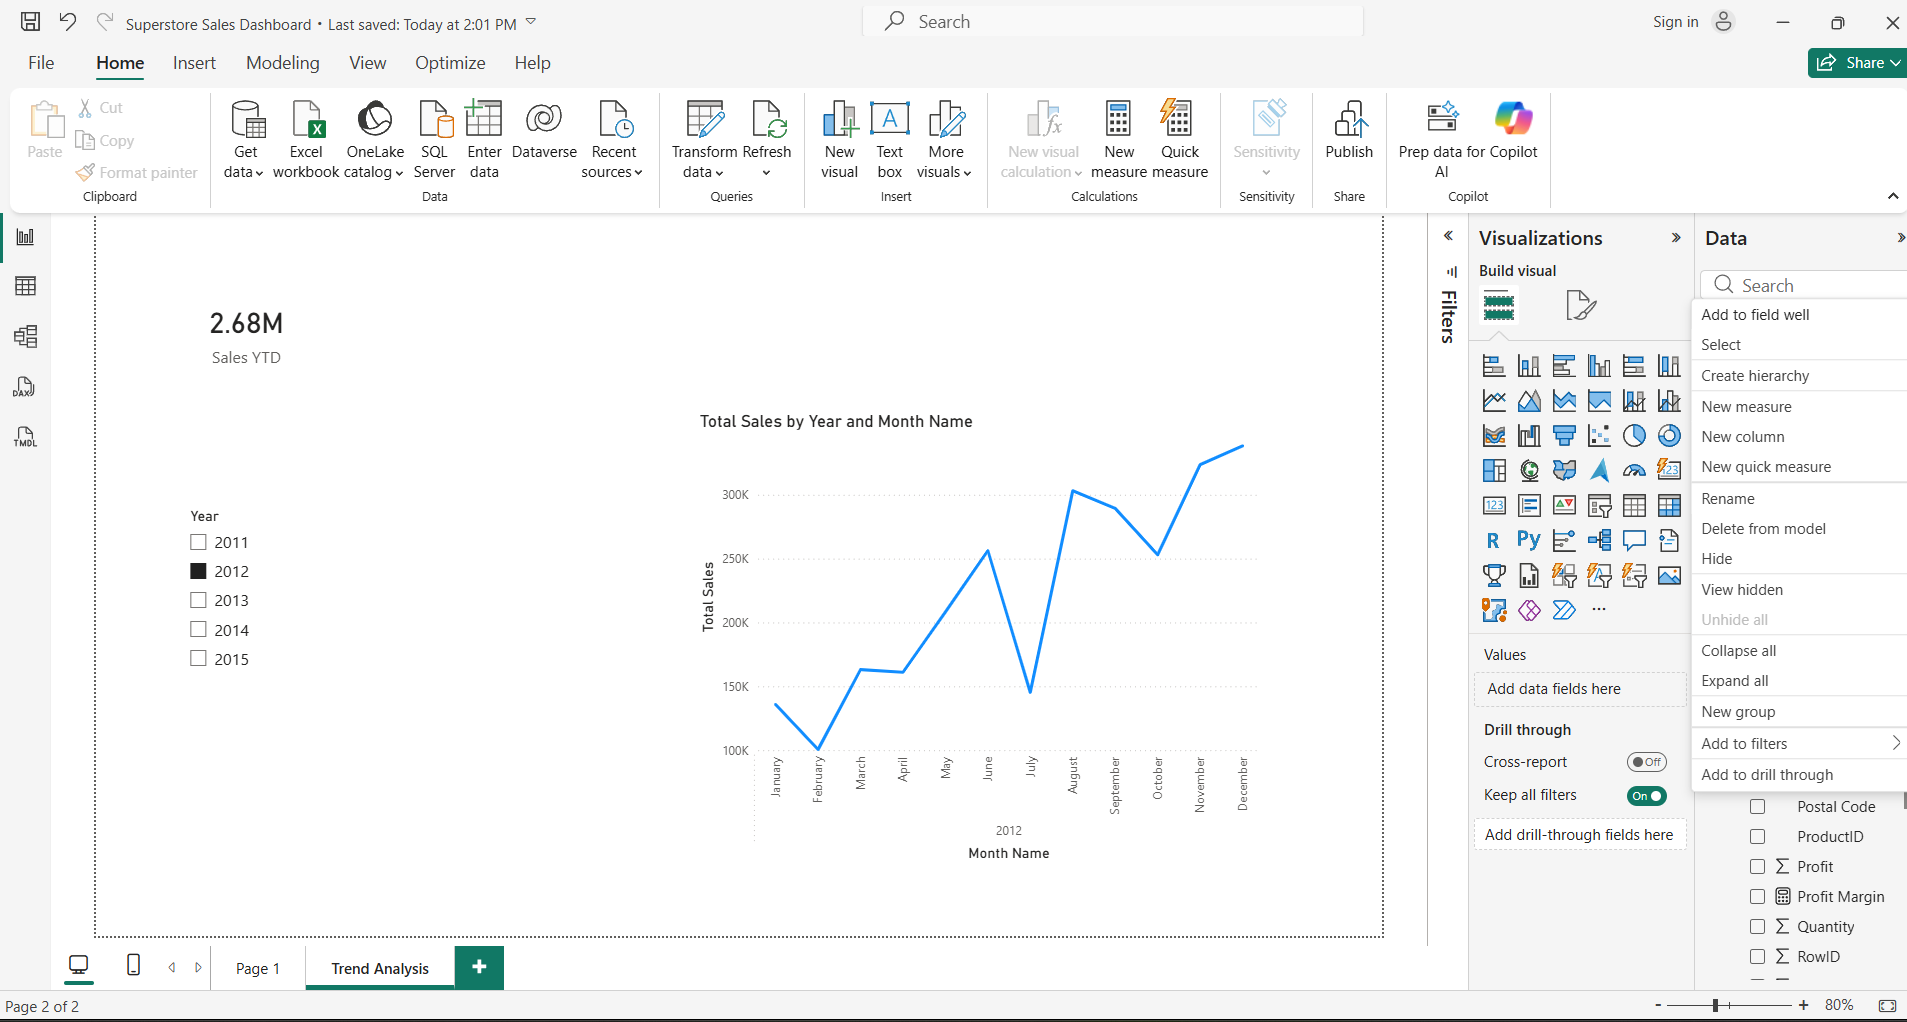

This screenshot's page, from the dashboard's own definition file:
{"tool":"powerbi","page":{"name":"Trend Analysis","canvas":[1280,720],"ordinal":1},"visuals":[{"type":"lineChart","fields":{"Y":["Orders.Total Sales"],"Category":["Date.Year","Date.Month Name"]},"box":[595.9,196.5,567.2,454],"z":0},{"type":"slicer","fields":{"Values":["Date.Year"]},"box":[80.9,288.6,299.8,299.8],"z":1000},{"type":"card","fields":{"Values":["Orders.Sales YTD"]},"box":[0,0,299.8,237.6],"z":2000}]}

Visuals, with their boxes on the page's 1280x720 design canvas (x1, y1, x2, y2). These are canvas units, not pixel positions in the 1907x1022 screenshot, which may show the page scaled, cropped or inside an application window:
lineChart - Orders.Total Sales x Date.Year: bbox=(596, 196, 1163, 650)
slicer - Date.Year: bbox=(81, 289, 381, 588)
card - Orders.Sales YTD: bbox=(0, 0, 300, 238)
